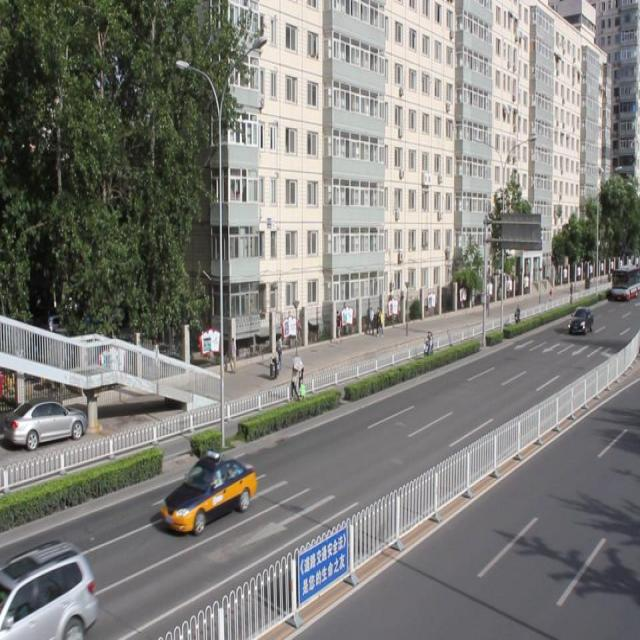car: (0, 540, 99, 640), (162, 452, 256, 535)
